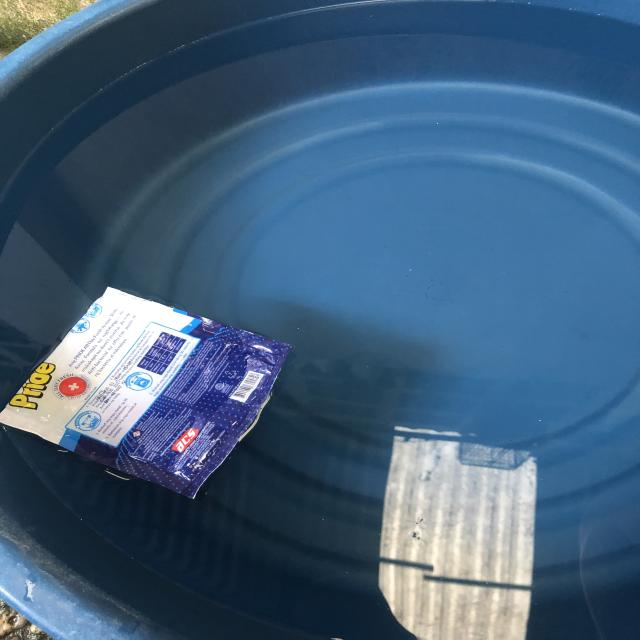Plastic Wrapper: (0, 287, 287, 497)
